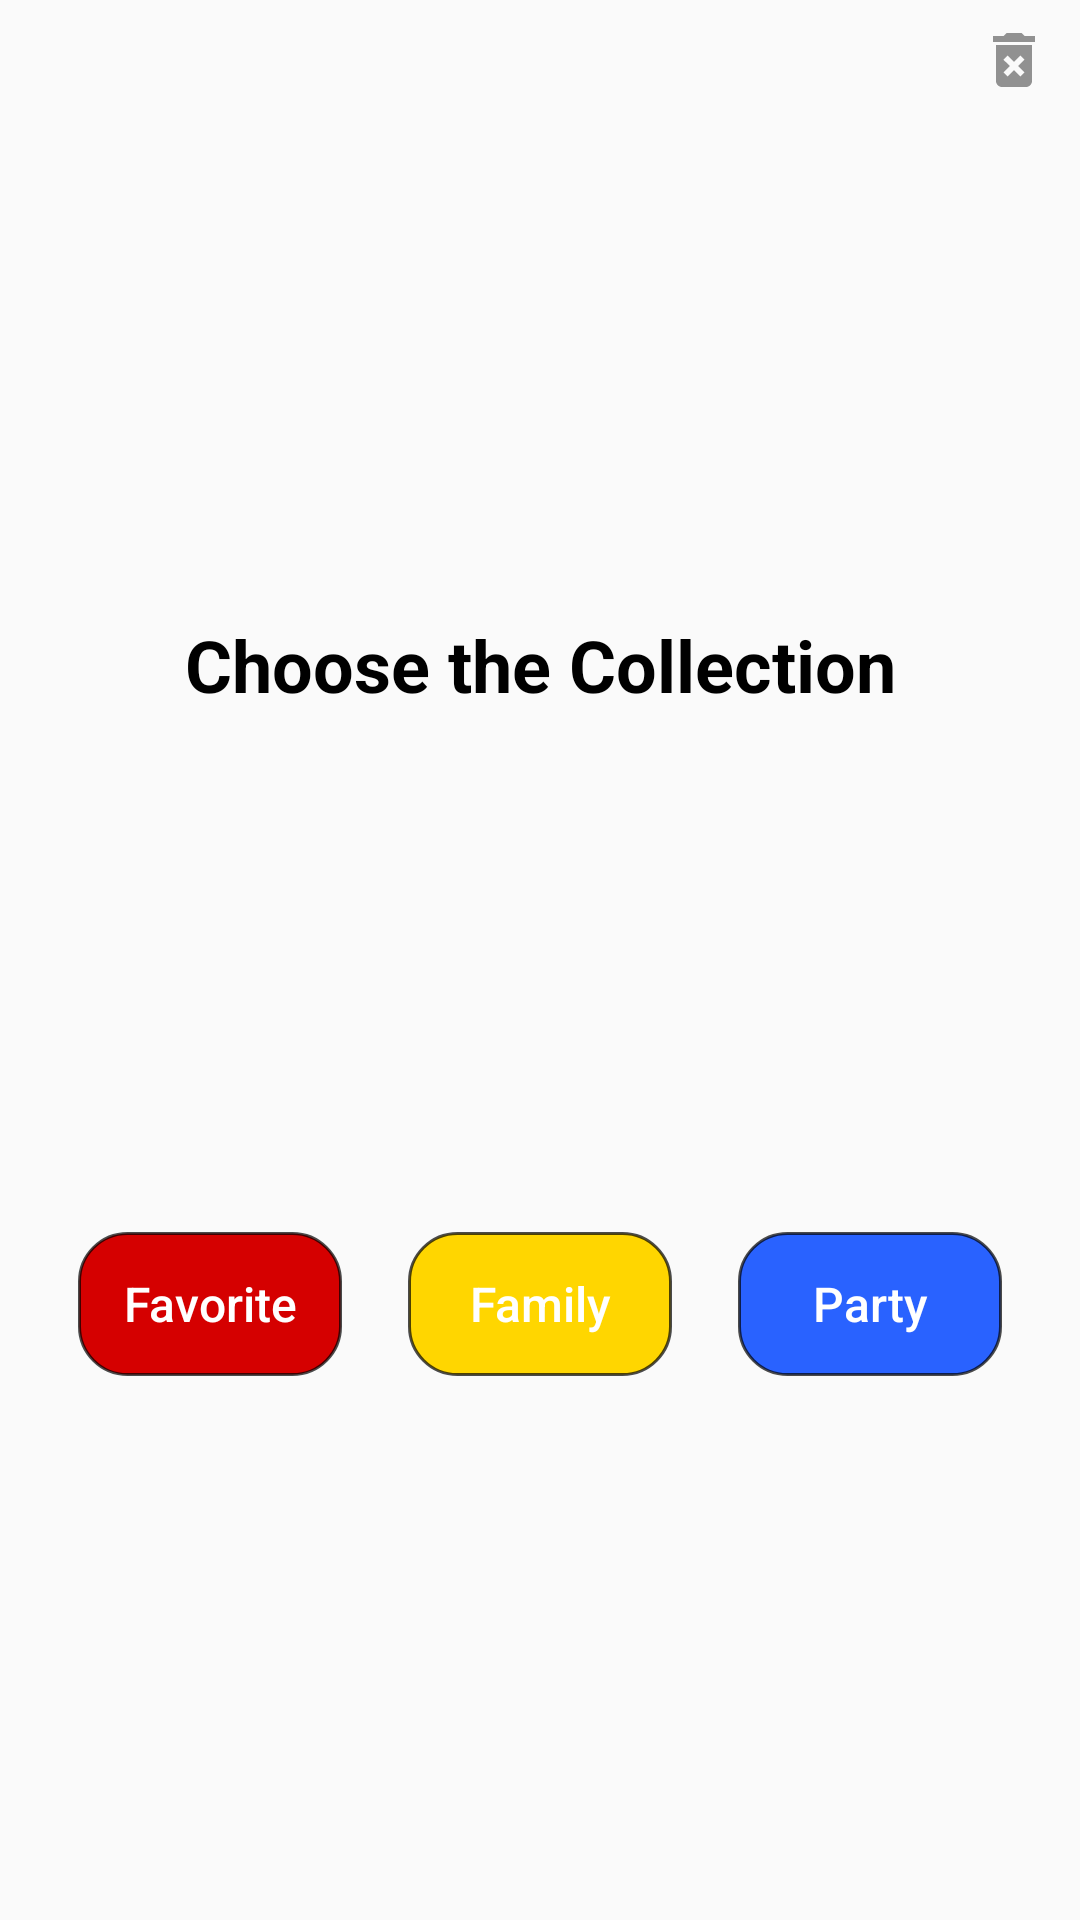

Where icons sit on this 1080px x 1920px app screen, as (x1, y1, x2, y2):
delete: (993, 33, 1035, 87)
